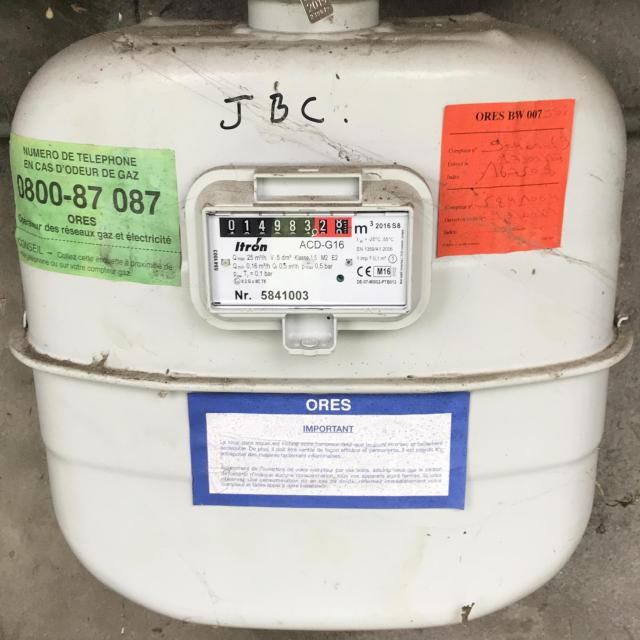gaz_meter: (202, 205, 413, 314)
indication: (217, 215, 351, 238)
